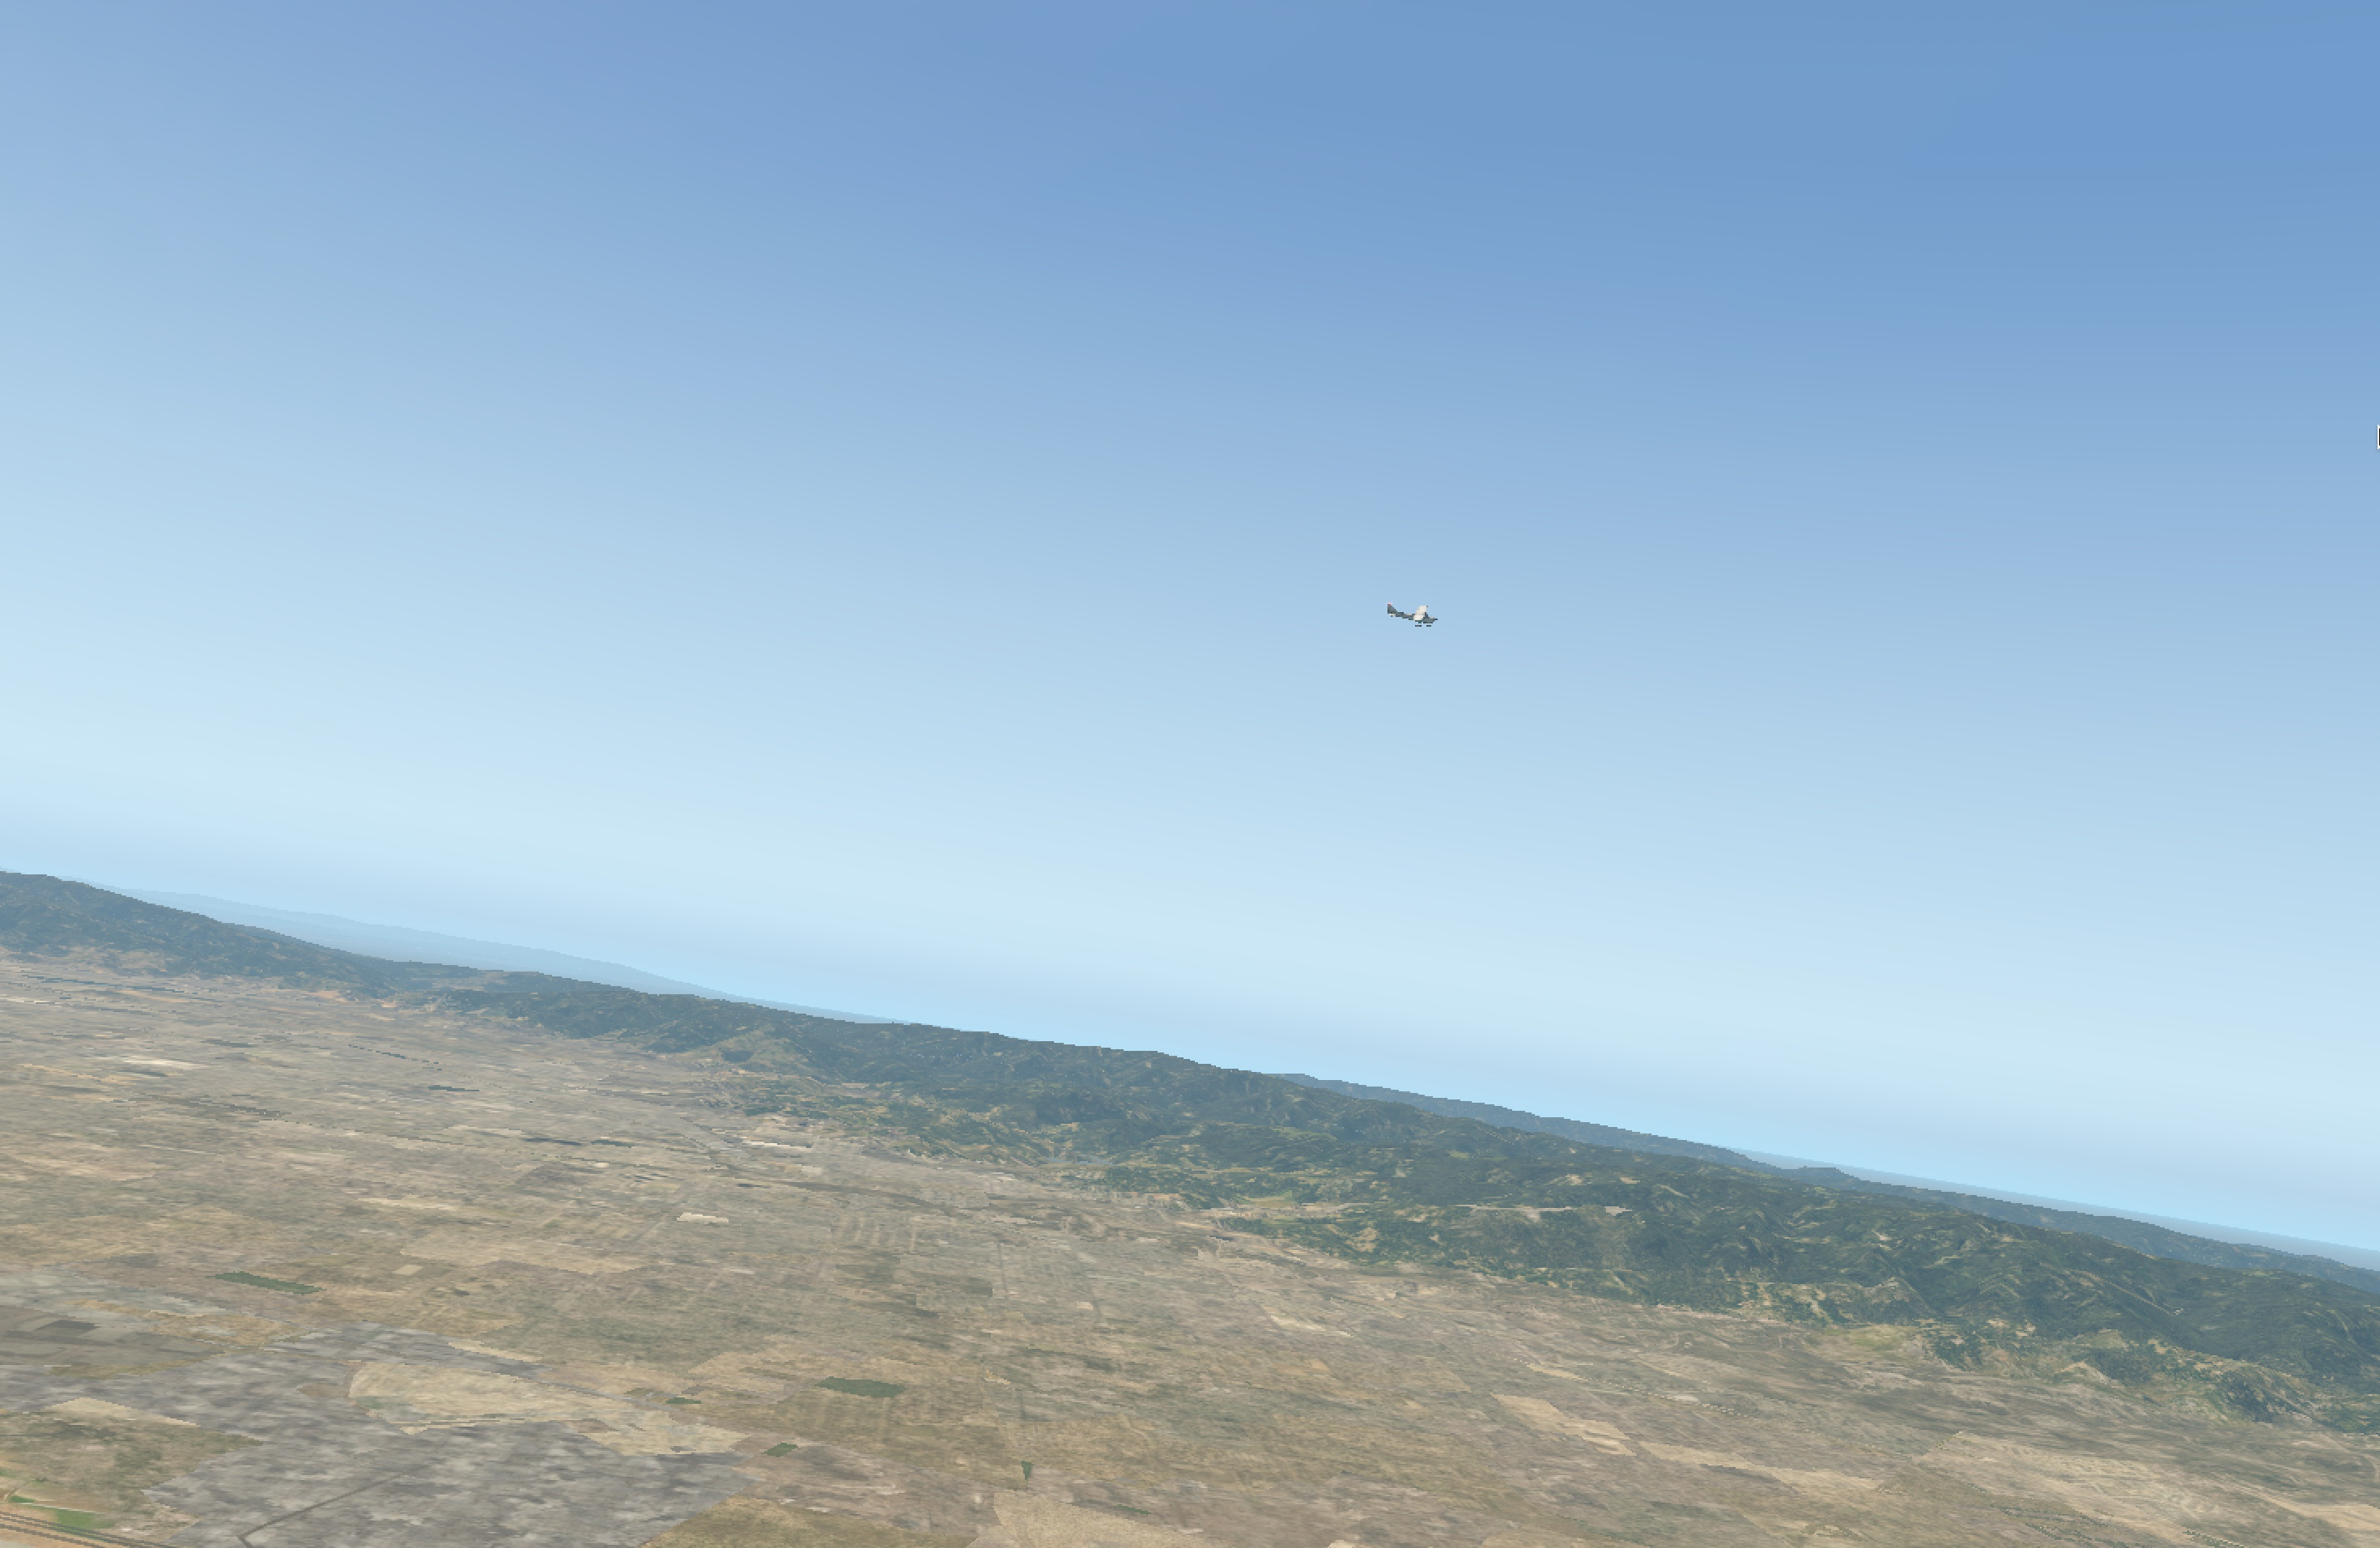aircraft: (1396, 607, 1447, 626)
